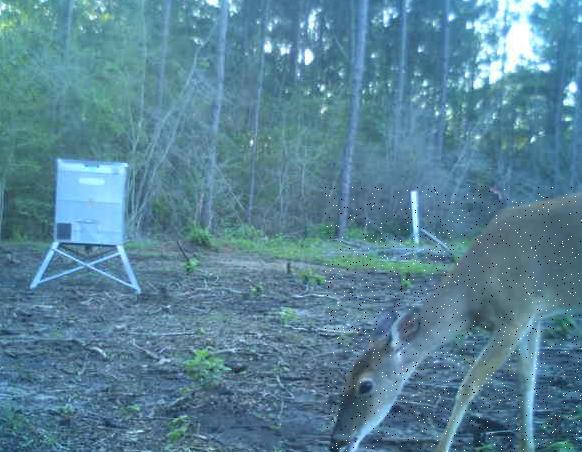Deer: (325, 186, 582, 452)
